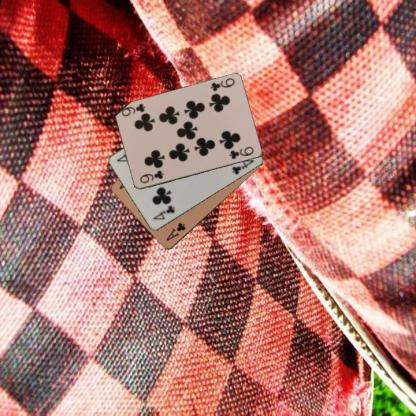4c: (150, 203, 176, 221)
9c: (137, 168, 165, 185), (208, 76, 236, 92)
Ac: (164, 220, 186, 243)
